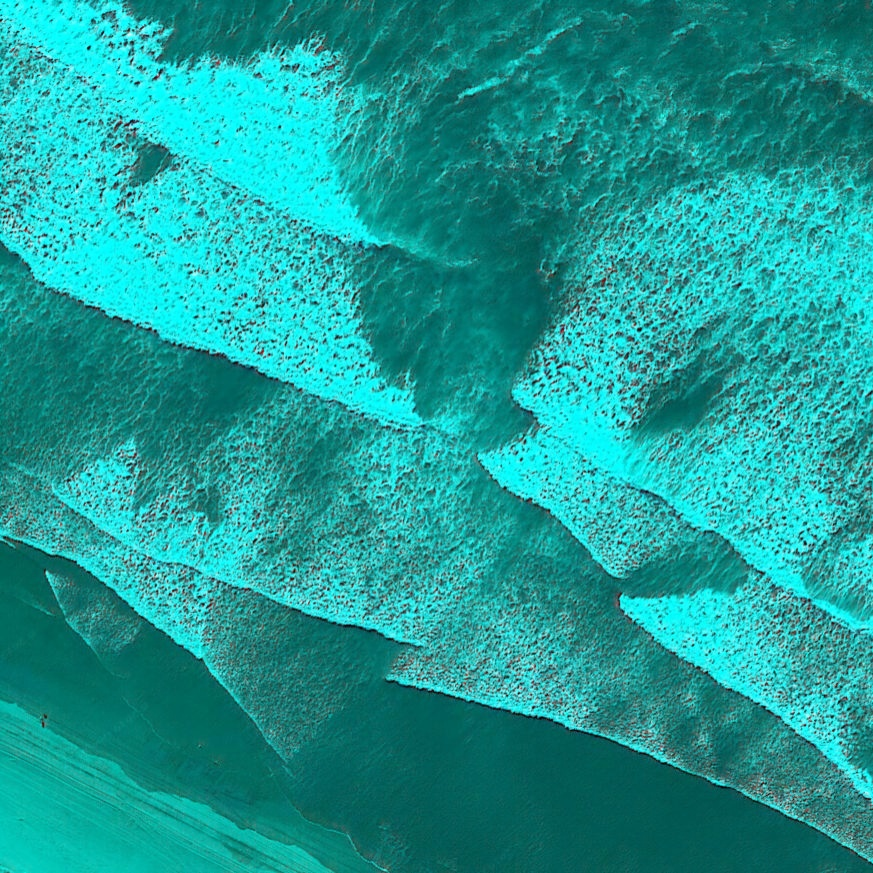rip_current: (286, 47, 656, 635)
